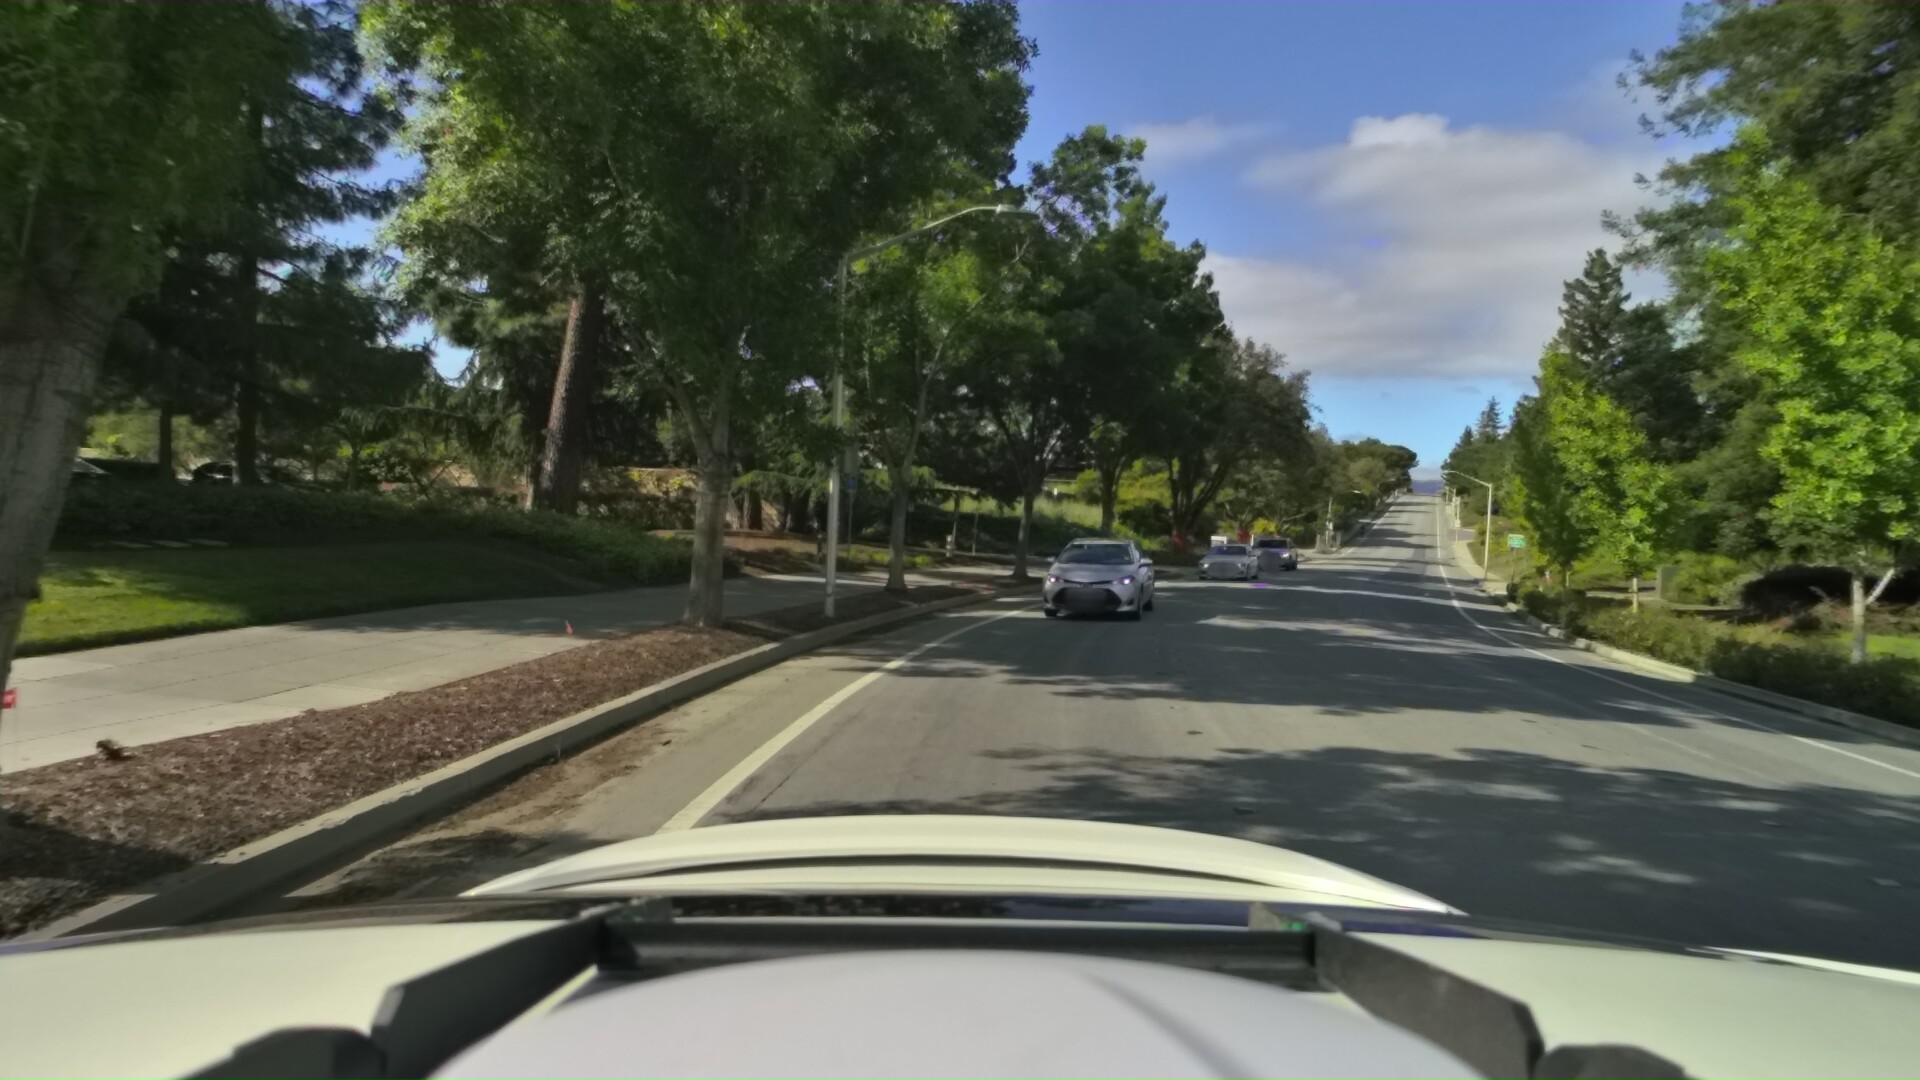car: (1040, 524, 1168, 620), (1199, 533, 1267, 580), (1250, 530, 1305, 568)
